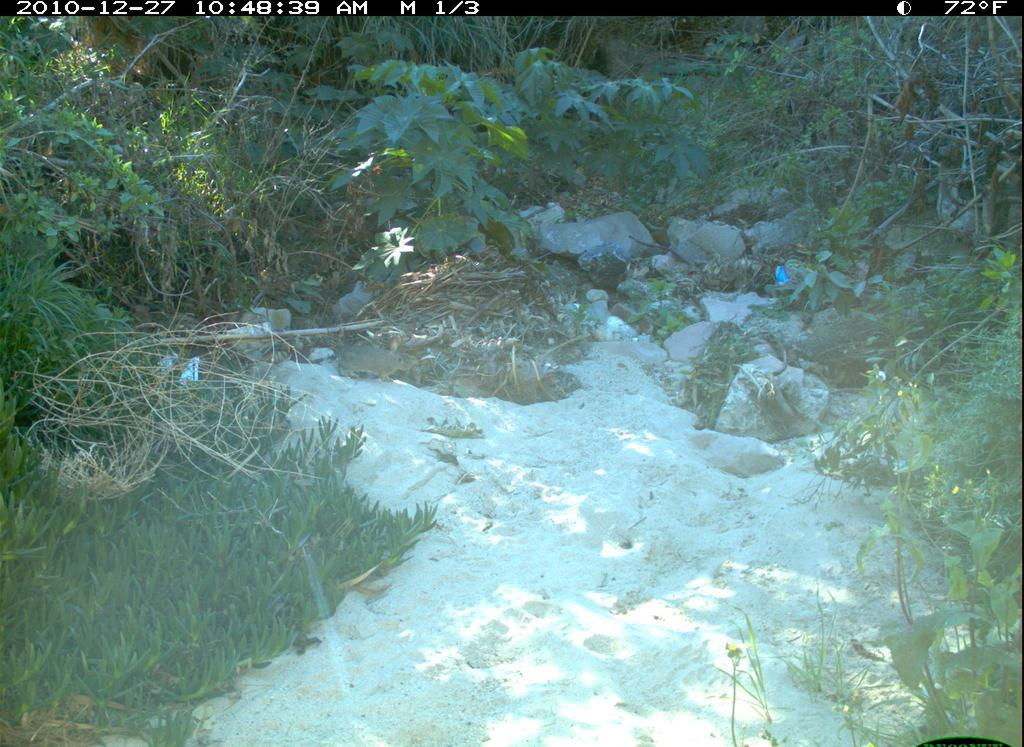rabbit: (336, 334, 409, 386)
